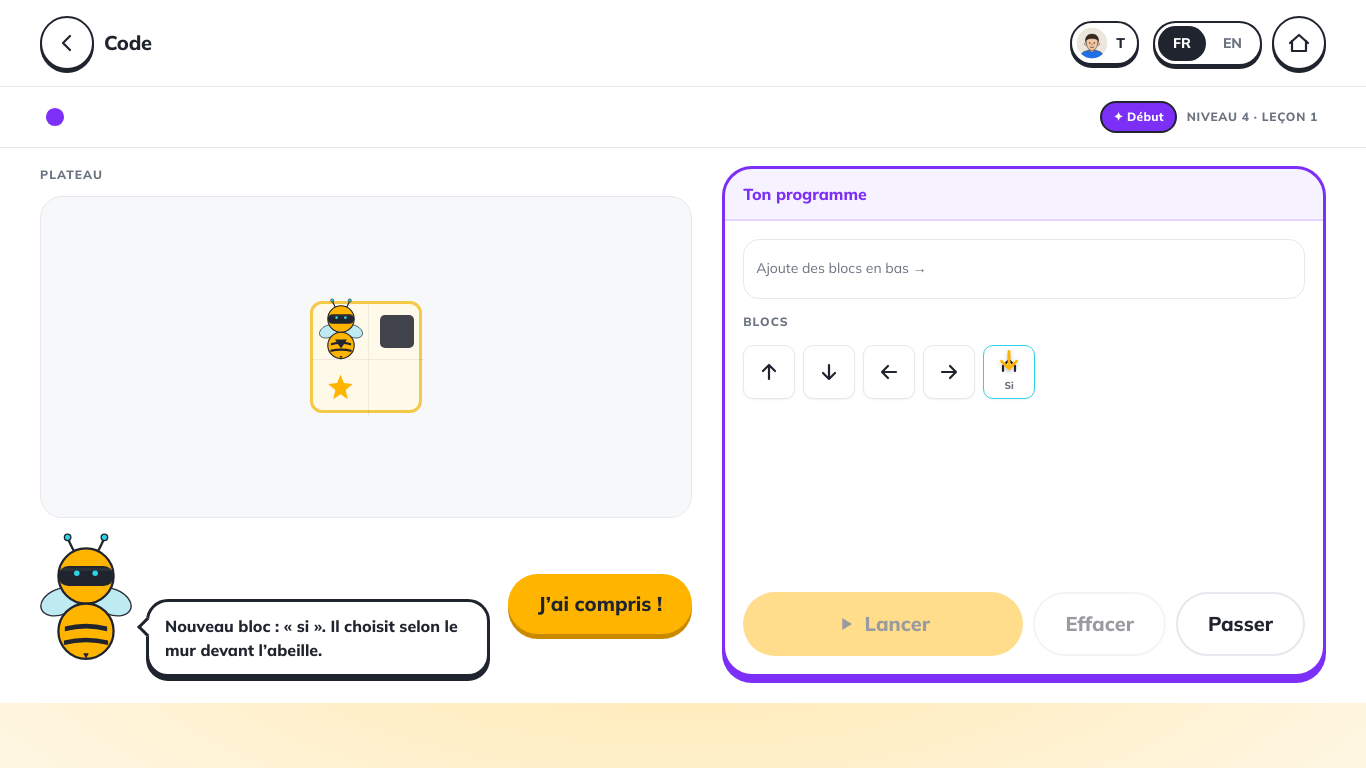
Test: CodeTurtleSession conditions — if block › places an if, fills then/else, solves
Click the button with aria-label "if".
click(1009, 372)  # box [983,345,1035,399]
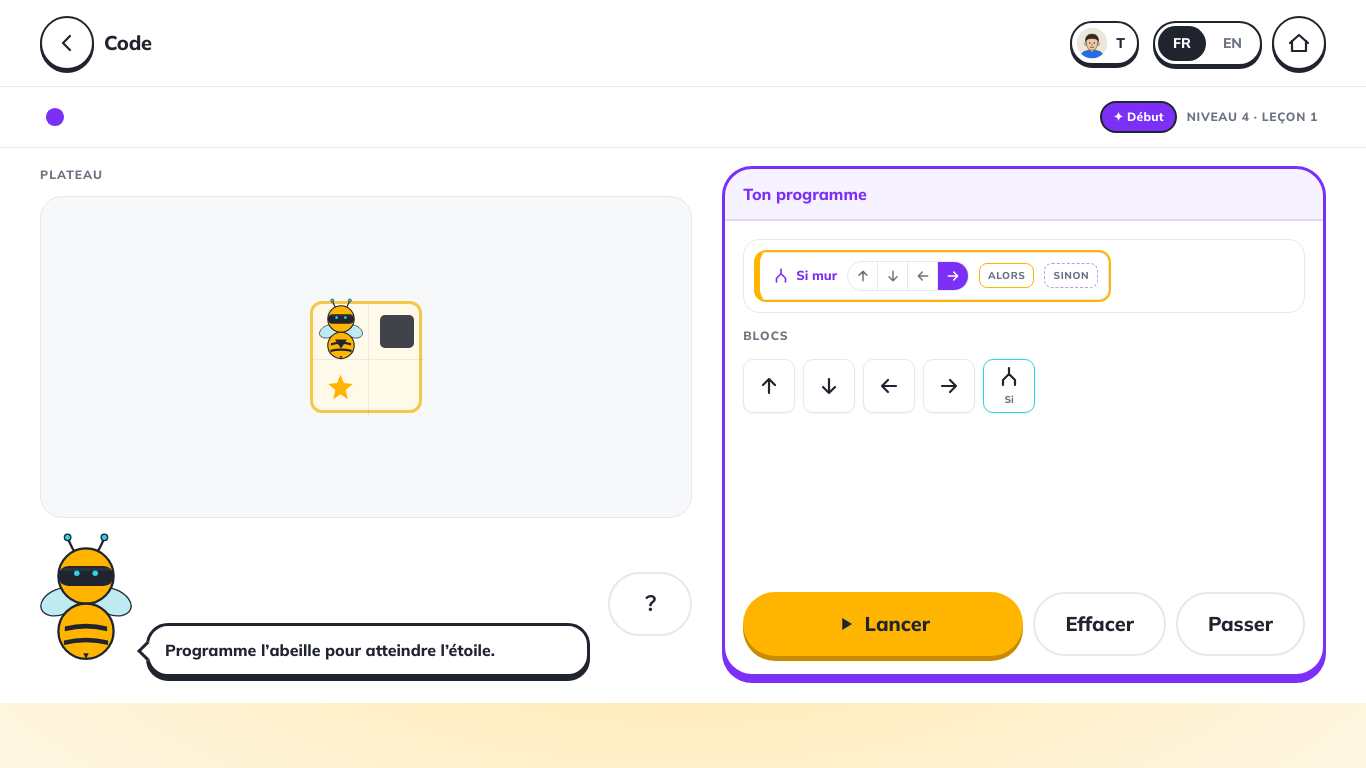
Click the button named "down".
click(829, 386)  # box [803,359,855,413]
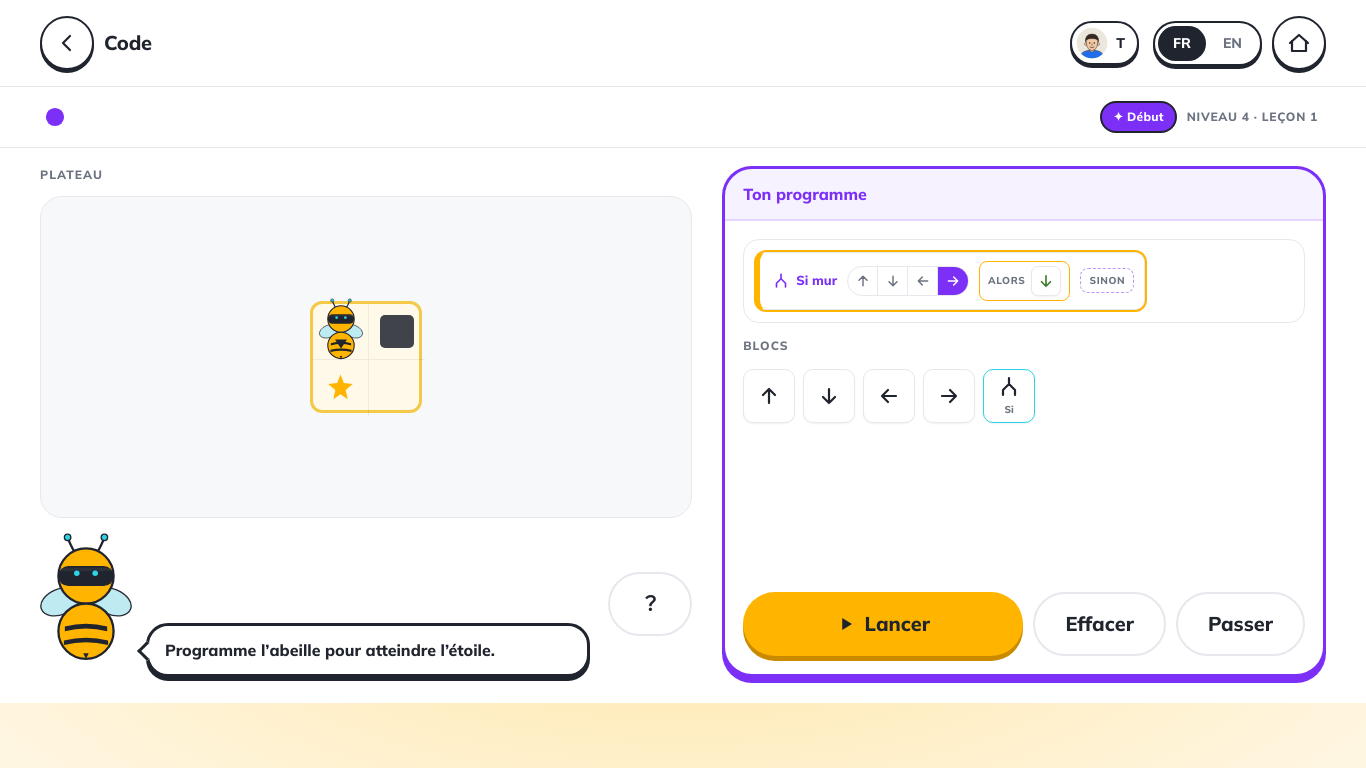
Click the button with aria-label "slot-else".
click(1107, 281)  # box [1080,268,1134,293]
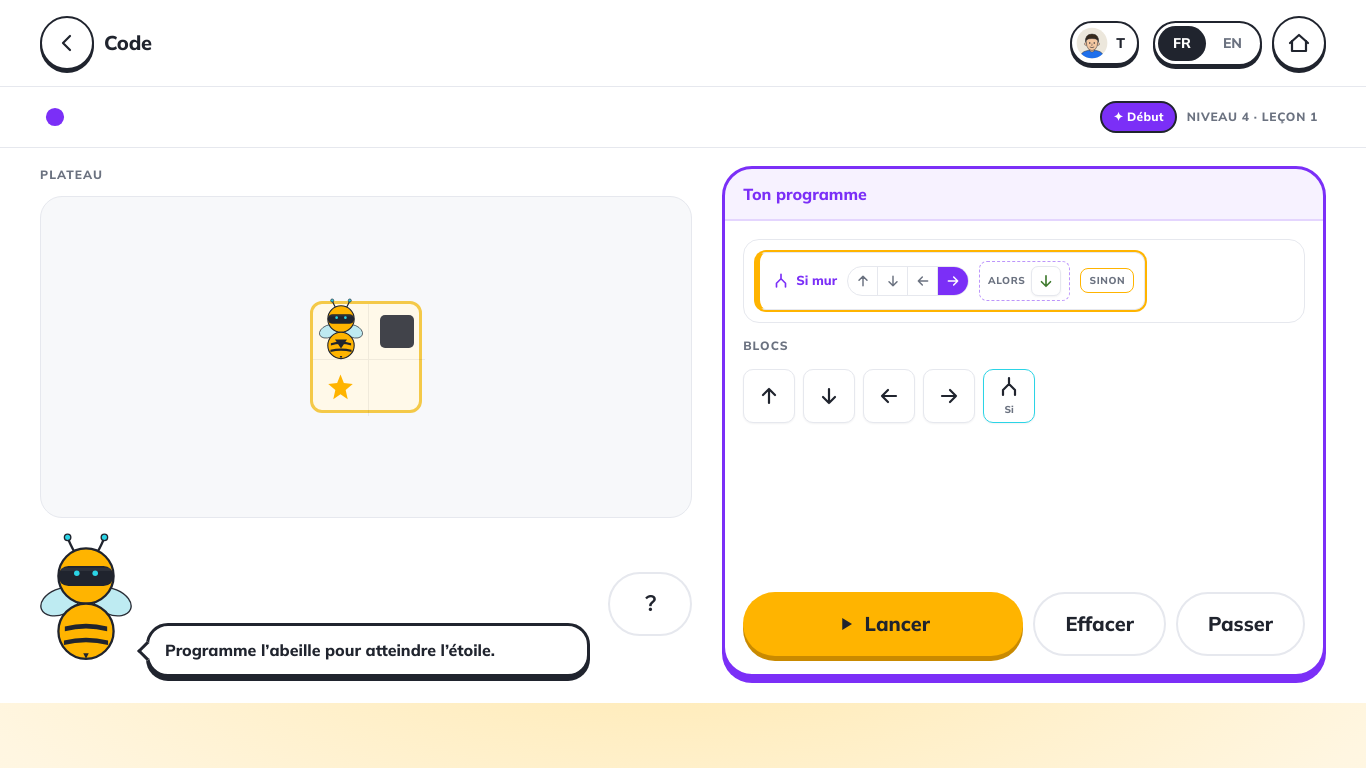
Click the button named "right".
click(949, 396)  # box [923,369,975,423]
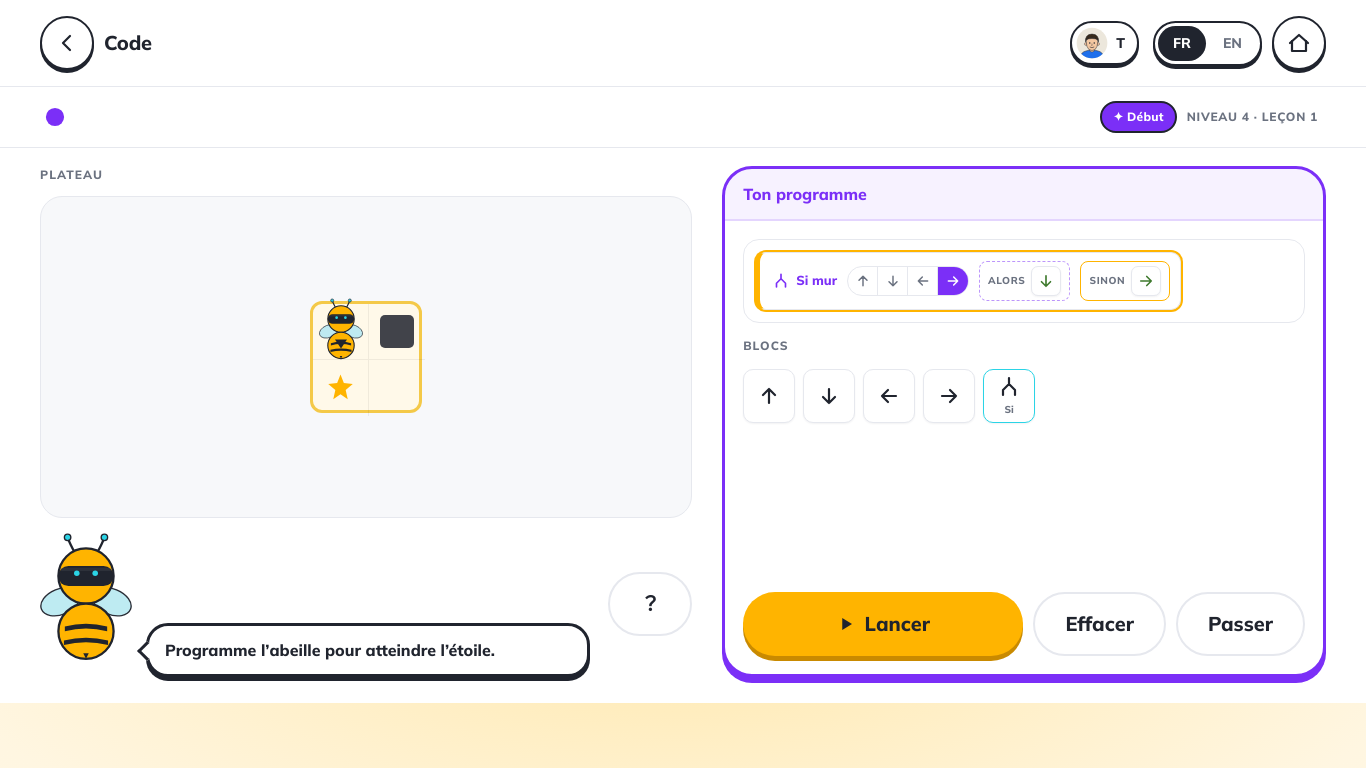
Click the button "Lancer".
click(883, 624)  # box [743,592,1023,656]
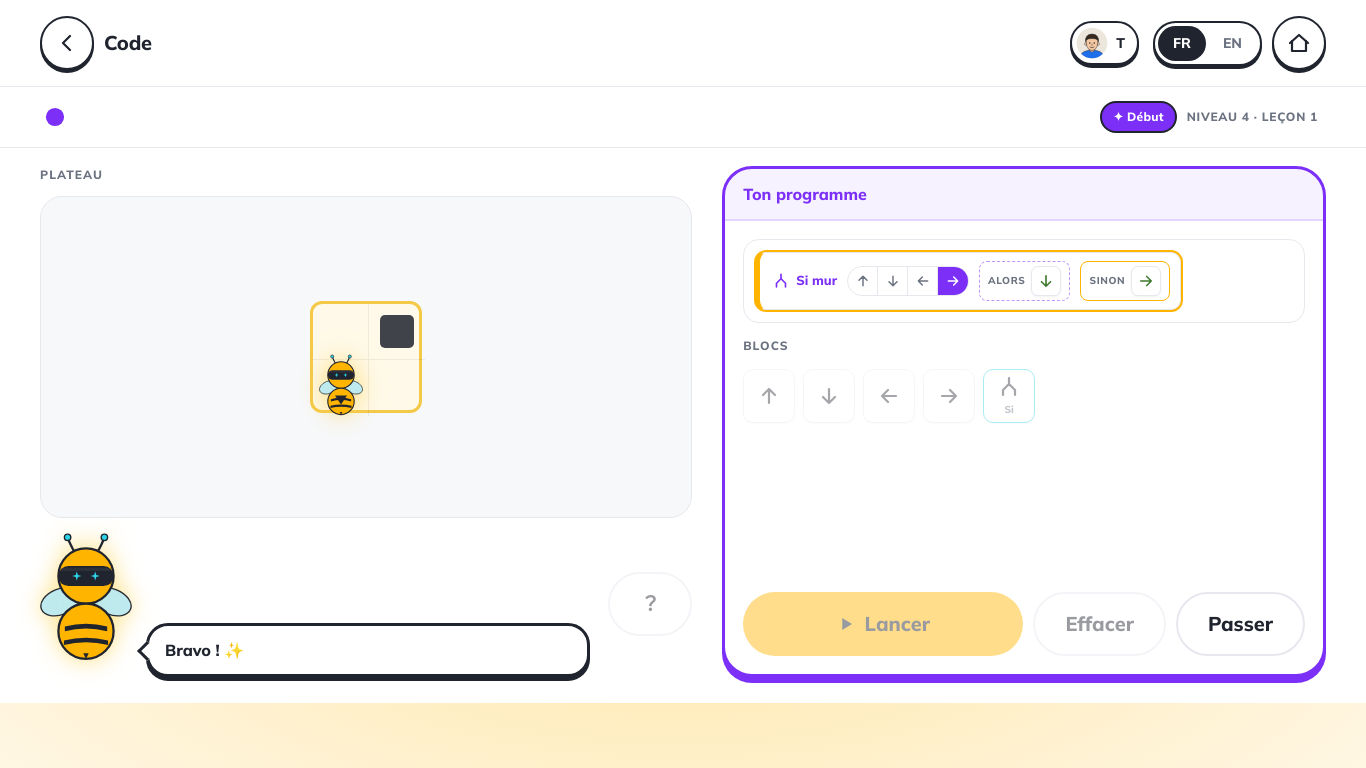
Now the text with class "bee-coach-text" reads "Bravo ! ✨", box [165,640,244,660]
